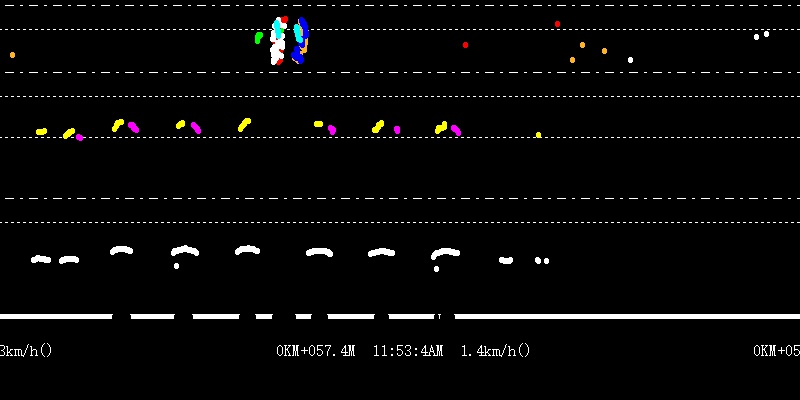J: (268, 1, 308, 67)
y_p: (106, 111, 466, 269)
